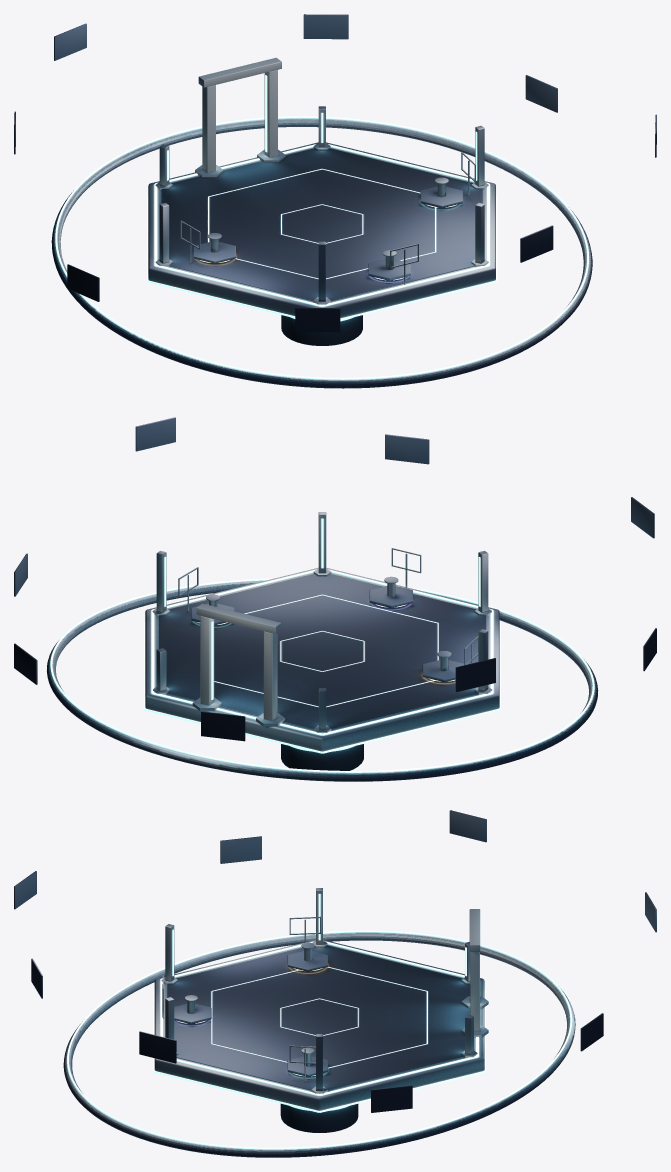
Rendered from stage-orbit.glb.
The picture shows the model from 3 angles, top to bottom: view 1: azimuth 30°, elevation 25°; view 2: azimuth 150°, elevation 25°; view 3: azimuth 270°, elevation 25°; orthographic projection. The views are drawn at different scales.
Parts seen in each view (by area): view 1: BK_top, BK_ring, BK_deck, BK_panels, BK_gate, BK_pylons, EM_ring, BK_pedestals, EM_rim_top, BK_core, EM_rim_under, EM_rim_inner (+1 smaller); view 2: BK_top, BK_ring, BK_deck, BK_panels, BK_gate, BK_pylons, EM_ring, EM_rim_top, BK_pedestals, BK_core, EM_rim_under, BK_frames (+1 smaller); view 3: BK_top, BK_ring, BK_deck, BK_panels, EM_ring, BK_pylons, BK_pedestals, EM_rim_top, BK_core, BK_gate, EM_rim_under, EM_rim_inner.
Boxes of the visible parts, left/top/right/bottom form: BK_top: left=161, top=148, right=482, bottom=301; BK_ring: left=51, top=118, right=592, bottom=388; BK_deck: left=148, top=142, right=495, bottom=318; BK_panels: left=14, top=14, right=656, bottom=332; BK_gate: left=195, top=57, right=285, bottom=177; BK_pylons: left=155, top=106, right=488, bottom=304; EM_ring: left=55, top=116, right=588, bottom=379; BK_pedestals: left=193, top=177, right=462, bottom=280; EM_rim_top: left=154, top=144, right=489, bottom=306; BK_core: left=281, top=315, right=362, bottom=345; EM_rim_under: left=147, top=195, right=497, bottom=320; EM_rim_inner: left=208, top=168, right=436, bottom=279; BK_top: left=159, top=573, right=485, bottom=729; BK_ring: left=47, top=580, right=598, bottom=781; BK_deck: left=145, top=567, right=499, bottom=751; BK_panels: left=14, top=417, right=656, bottom=741; BK_gate: left=192, top=603, right=285, bottom=726; BK_pylons: left=152, top=512, right=492, bottom=733; EM_ring: left=50, top=578, right=594, bottom=772; EM_rim_top: left=151, top=569, right=493, bottom=735; BK_pedestals: left=191, top=576, right=464, bottom=682; BK_core: left=281, top=744, right=363, bottom=770; EM_rim_under: left=144, top=621, right=500, bottom=753; BK_frames: left=178, top=548, right=478, bottom=665; BK_top: left=167, top=945, right=470, bottom=1090; BK_ring: left=63, top=932, right=575, bottom=1157; BK_deck: left=154, top=939, right=484, bottom=1110; BK_panels: left=14, top=810, right=656, bottom=1112; EM_ring: left=67, top=930, right=572, bottom=1149; BK_pylons: left=161, top=888, right=477, bottom=1093; BK_pedestals: left=174, top=942, right=327, bottom=1076; EM_rim_top: left=160, top=941, right=478, bottom=1095; BK_core: left=280, top=1103, right=358, bottom=1132; BK_gate: left=461, top=909, right=488, bottom=1037; EM_rim_under: left=153, top=989, right=485, bottom=1112; EM_rim_inner: left=211, top=966, right=427, bottom=1068.
Size of the model in its own units: 30.94 by 11.15 by 33.08.
Materials: 15 (10 with a texture image).
